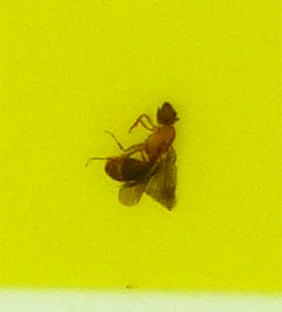Hymenoptera: (100, 100, 182, 212)
